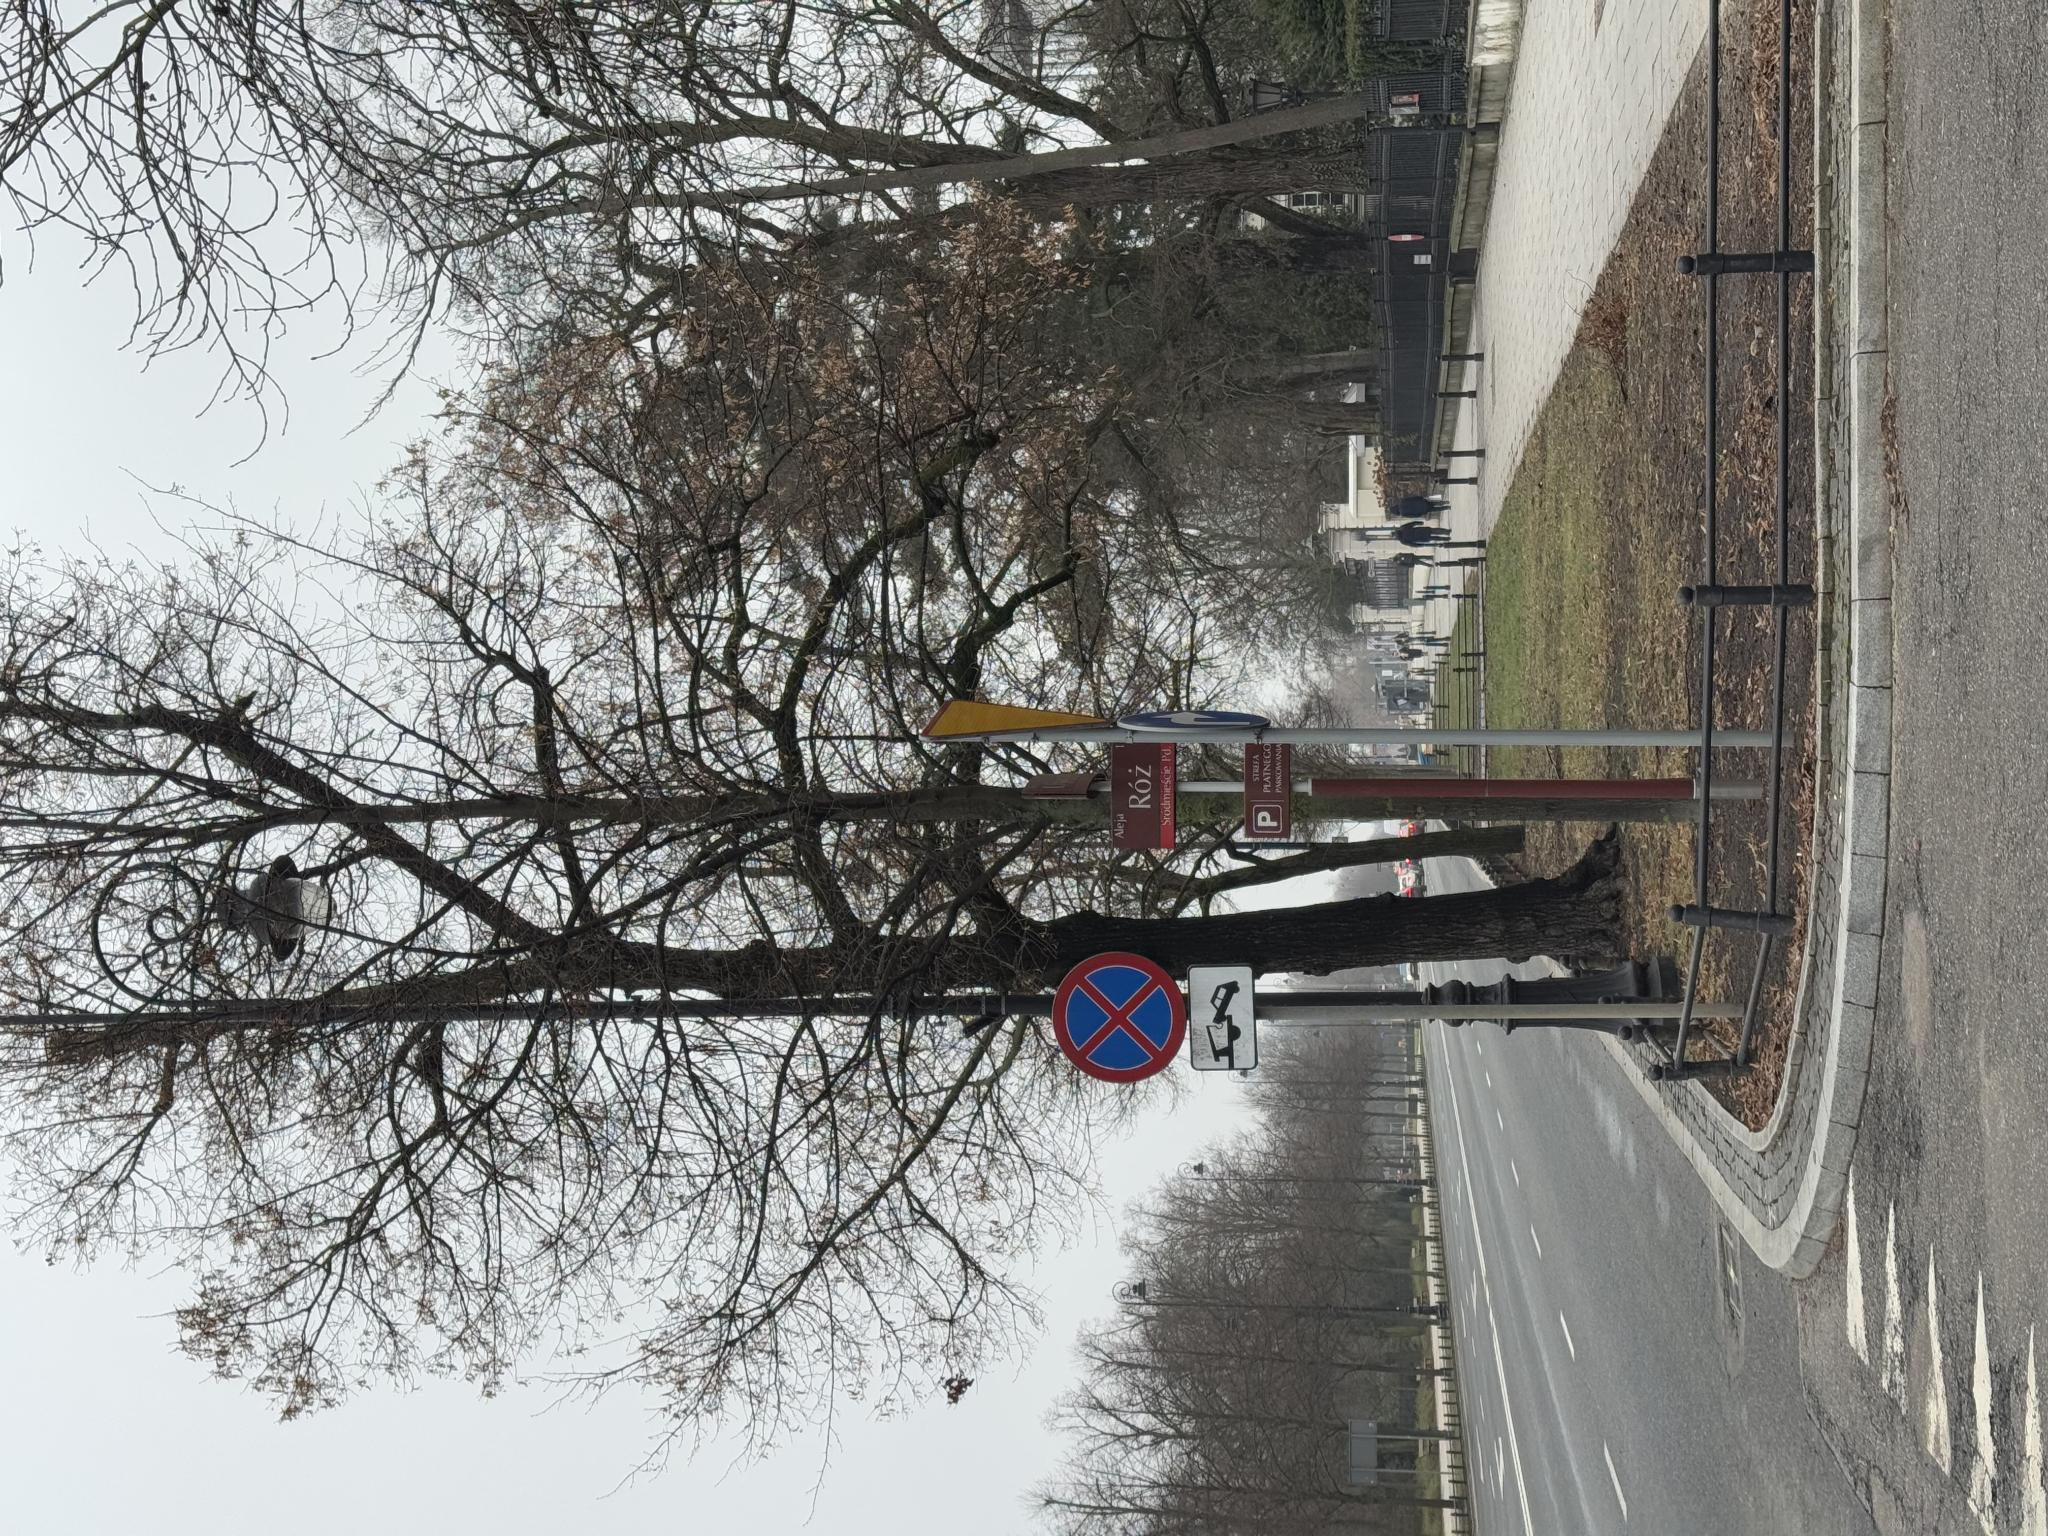mandatory: (803, 1115, 827, 1273)
other: (463, 1189, 574, 1258)
prohibitory: (452, 1050, 585, 1187)
warning: (795, 918, 839, 1112)
